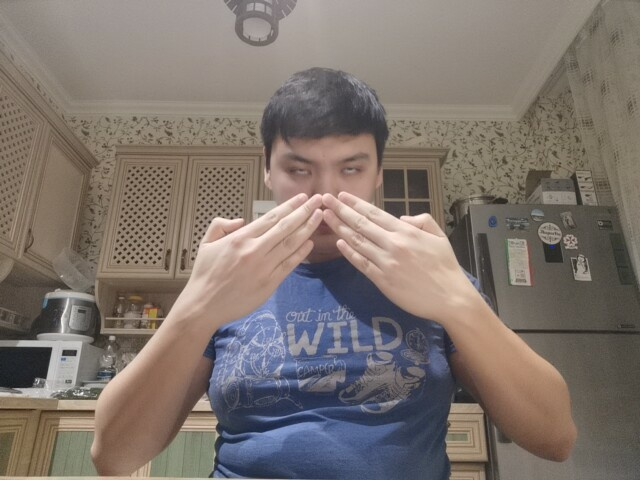Thanks: (176, 193, 482, 331)
